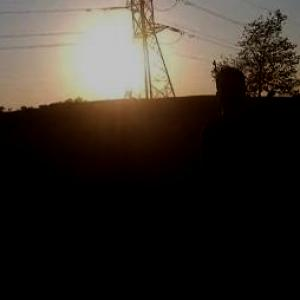follow: (196, 61, 288, 299)
